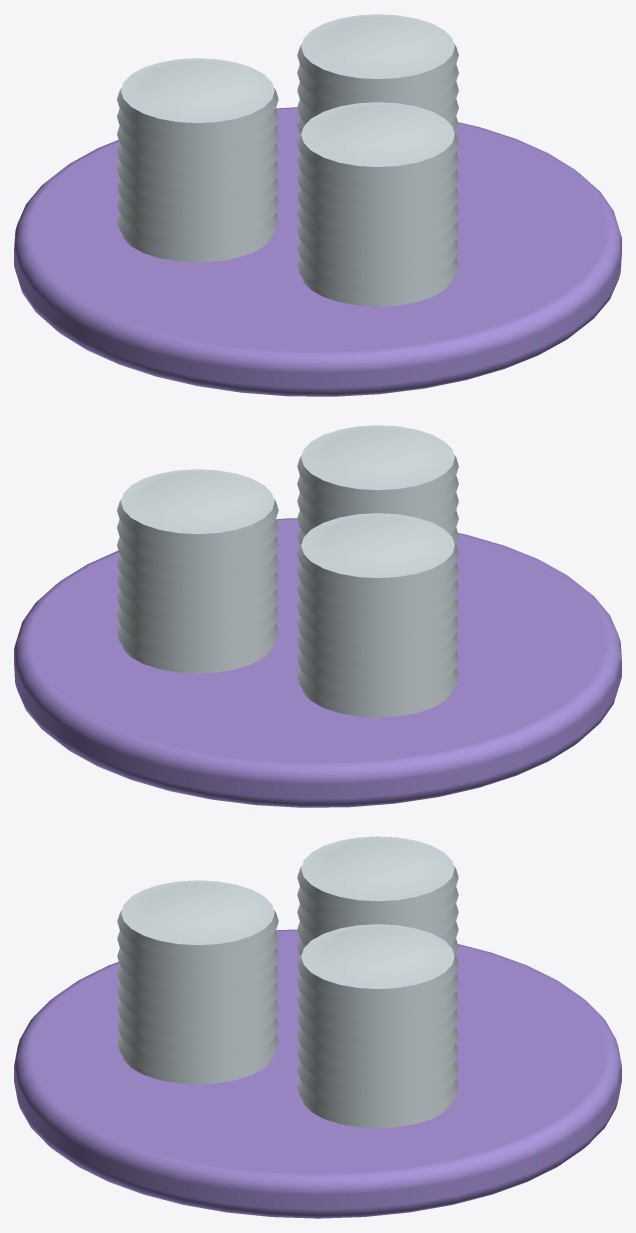
File: SM_LidStack.glb
The picture shows the model from 3 angles, top to bottom: view 1: azimuth 30°, elevation 25°; view 2: azimuth 150°, elevation 25°; view 3: azimuth 270°, elevation 25°; orthographic projection.
Visible parts, largest first — view 1: SM_LidStack; view 2: SM_LidStack; view 3: SM_LidStack.
Part boxes in pixels (x1,y1,x2,y2): SM_LidStack: (14,14,621,396); SM_LidStack: (14,425,621,807); SM_LidStack: (14,836,621,1218).
Bounding box in the file's own units: 0.38 × 0.134 × 0.38.
1 material, 1 textured.
